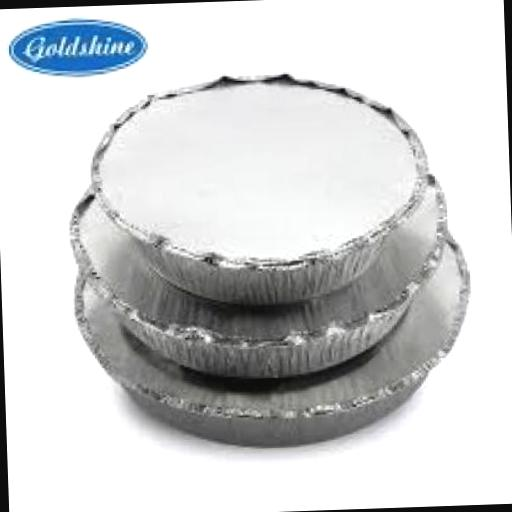metal: (70, 226, 502, 455), (82, 68, 432, 310), (68, 174, 453, 388)
